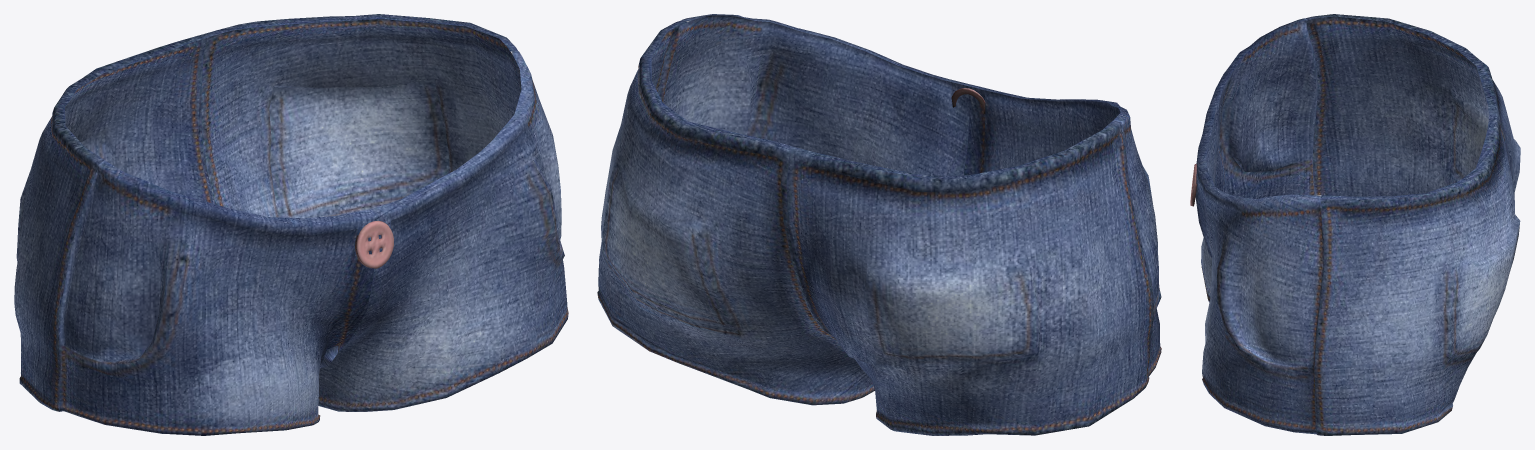
File: bottom_denim_shorts.gltf
3 views of the same model, side by side, from view 1: azimuth 30°, elevation 25°; view 2: azimuth 150°, elevation 25°; view 3: azimuth 270°, elevation 25° (orthographic). The views are drawn at different scales.
Parts seen in each view (by area): view 1: bottom_denim_shorts; view 2: bottom_denim_shorts; view 3: bottom_denim_shorts.
Boxes of the visible parts, bbox=[...] form: bottom_denim_shorts: bbox=[14, 14, 568, 435]; bottom_denim_shorts: bbox=[597, 14, 1161, 435]; bottom_denim_shorts: bbox=[1190, 14, 1520, 435].
Size of the model in its own units: 0.377 by 0.2177 by 0.2411.
1 material, 1 textured.
